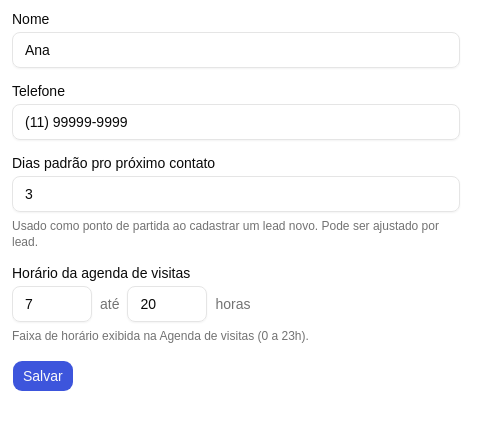
ConfiguracoesForm › salva os campos alterados
Replace the text in the field labelled "Nome" with "Ana Paula" at [236, 50], box 12,32 -> 460,68
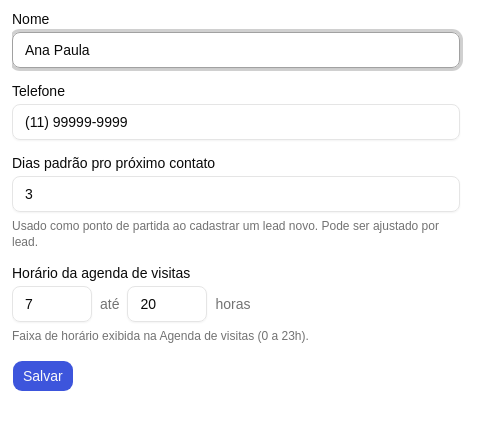
Click the button "Salvar".
click(43, 376)  # box 12,360 -> 74,392
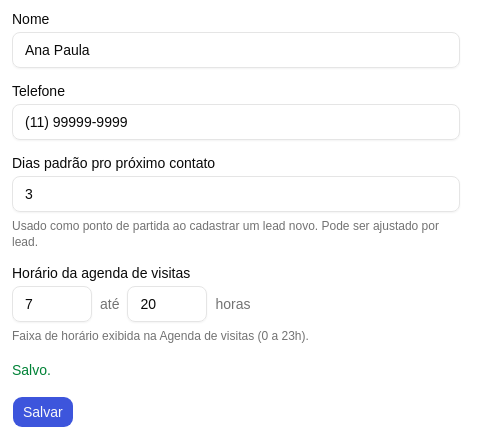
Expected: the text "Salvo." is shown, 12,362 -> 51,378
